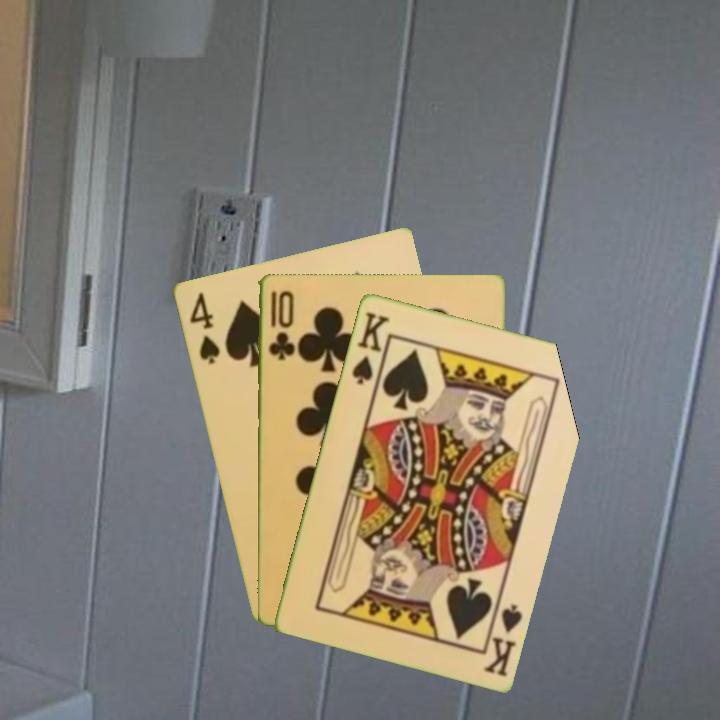10c: (264, 287, 295, 363)
4s: (185, 287, 223, 367)
Ks: (479, 594, 525, 679), (348, 308, 393, 387)
